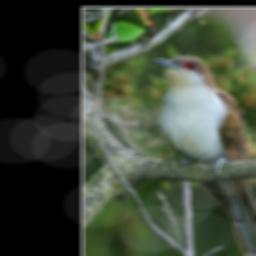Cuckoo: (151, 54, 256, 256)
